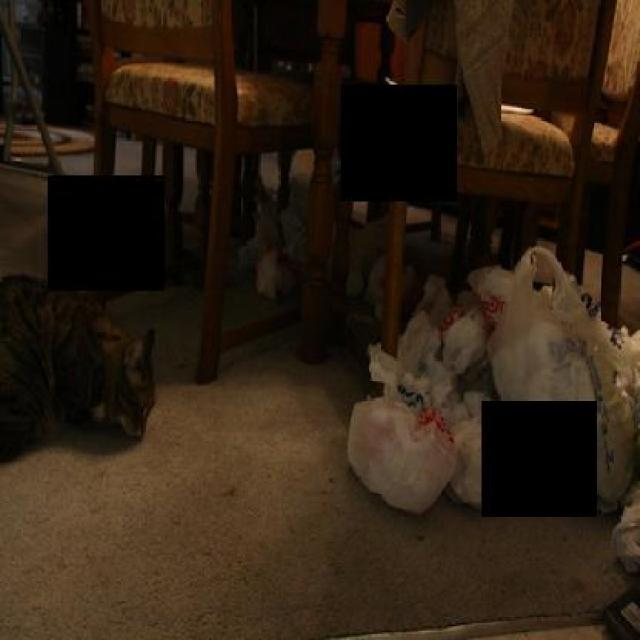plastic bag: (337, 233, 638, 584)
